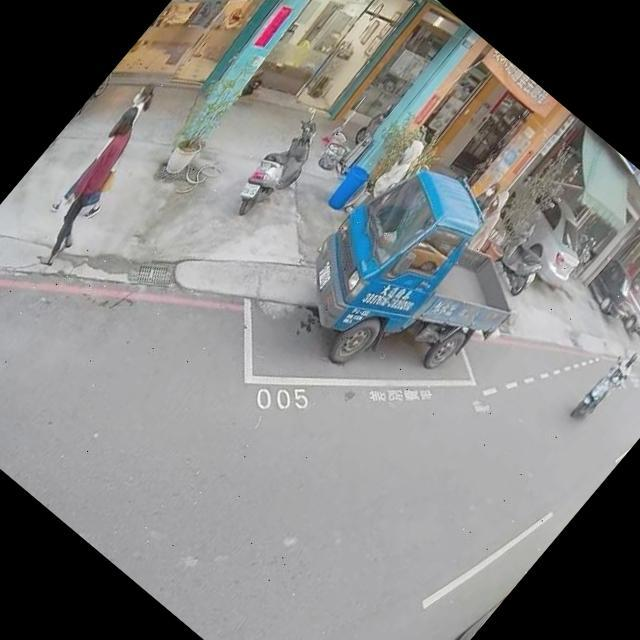person: (12, 88, 176, 272), (37, 78, 178, 235), (309, 125, 436, 268), (456, 185, 521, 256), (464, 173, 507, 219), (603, 345, 640, 389)
